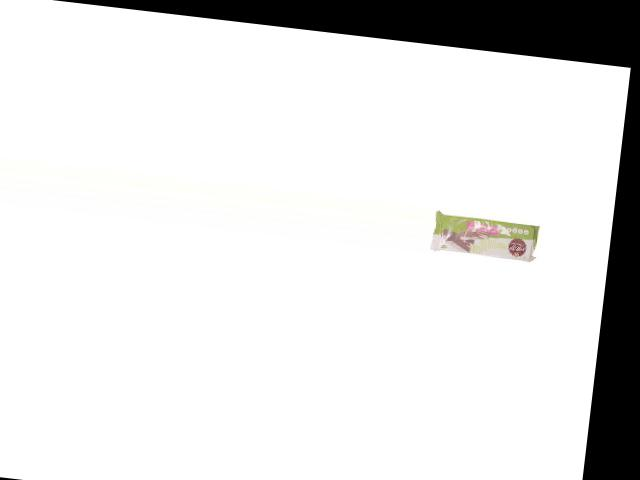chocolate: (430, 211, 543, 267)
